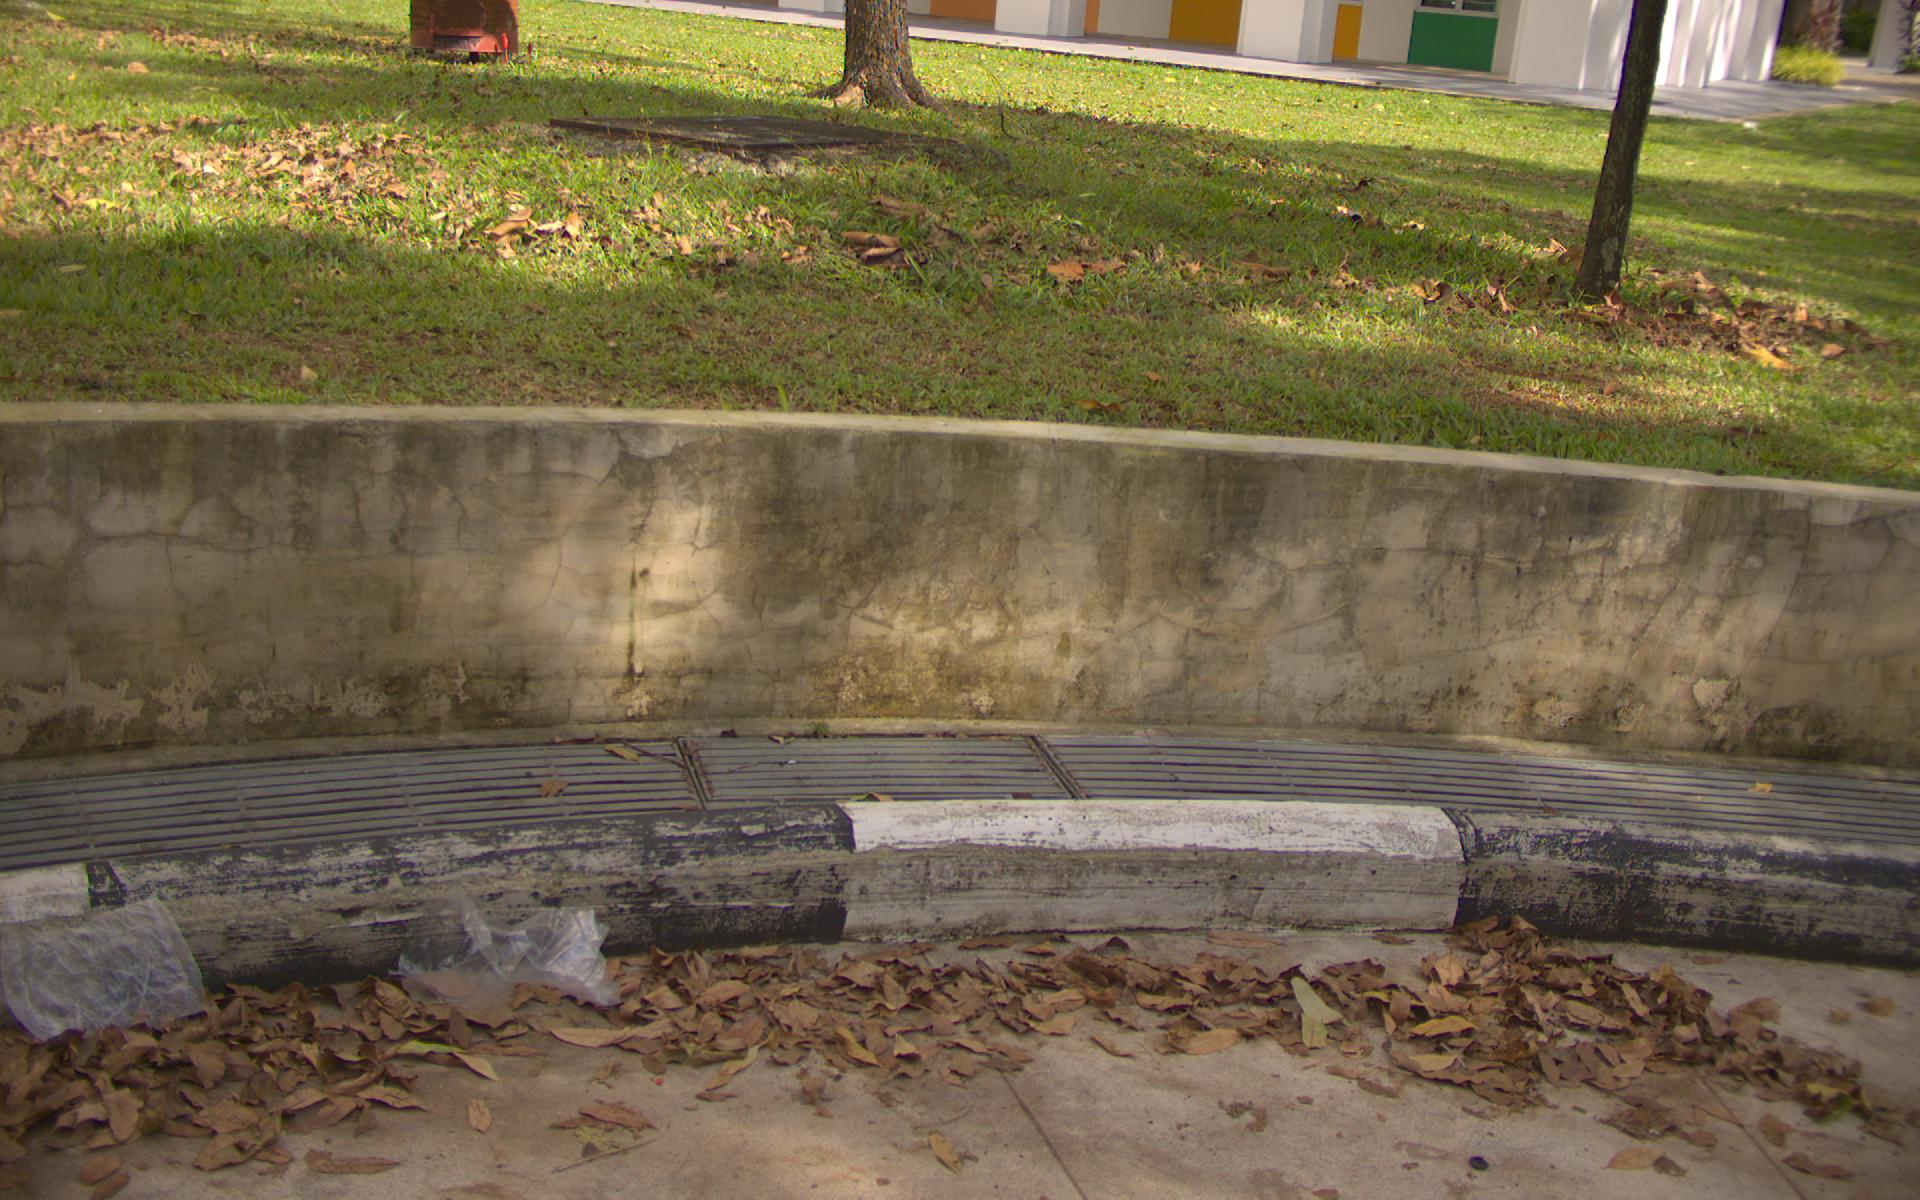curb_grill_low: (19, 733, 1913, 861)
road_curb_medium: (6, 901, 1905, 1188)
road_turf_low: (4, 35, 1895, 482)
